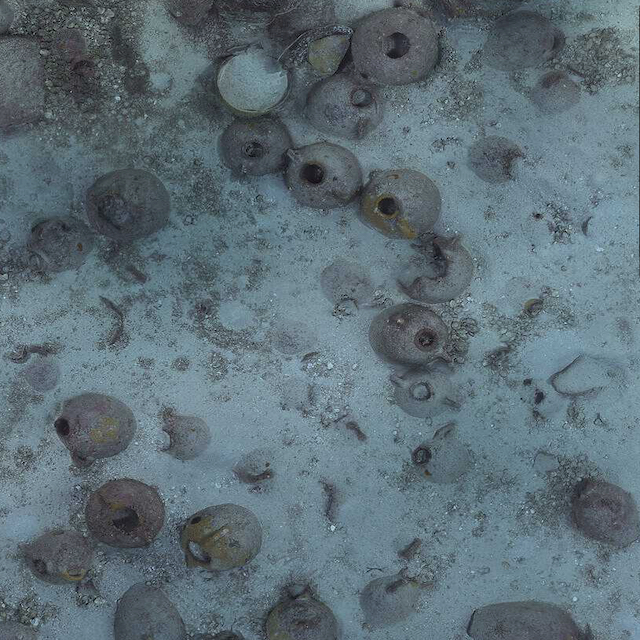amphora: (354, 11, 443, 84), (86, 167, 174, 239), (462, 595, 598, 640), (85, 478, 167, 552), (285, 138, 363, 214), (54, 394, 141, 461), (182, 505, 263, 575), (370, 302, 451, 369), (361, 170, 445, 234), (404, 235, 479, 305), (304, 75, 386, 138), (573, 474, 640, 547), (220, 112, 296, 174), (352, 569, 427, 631), (264, 580, 338, 640), (26, 522, 91, 586), (412, 425, 480, 486), (114, 582, 185, 640), (389, 364, 461, 420), (25, 213, 93, 271), (159, 412, 214, 460)
